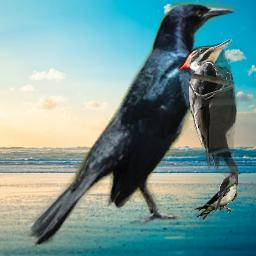Crow: (24, 0, 237, 249)
Cuckoo: (214, 171, 241, 211)
Swallow: (193, 180, 239, 220)
Woodpecker: (178, 39, 238, 191)
